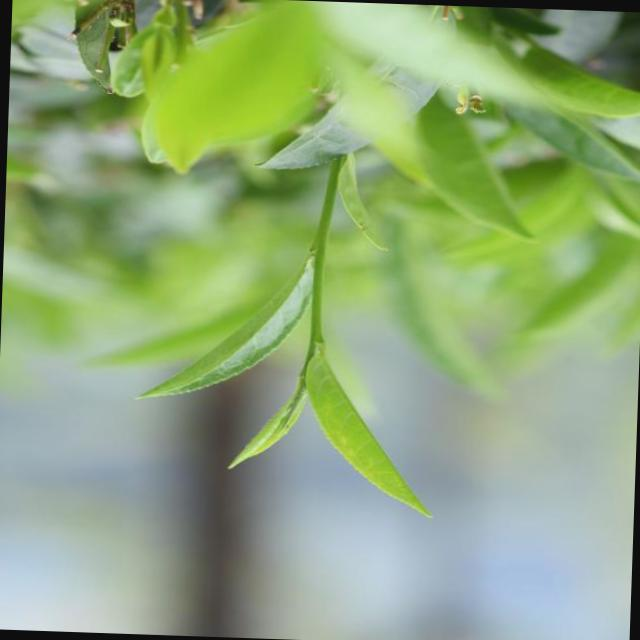Stem: (309, 321, 322, 343)
